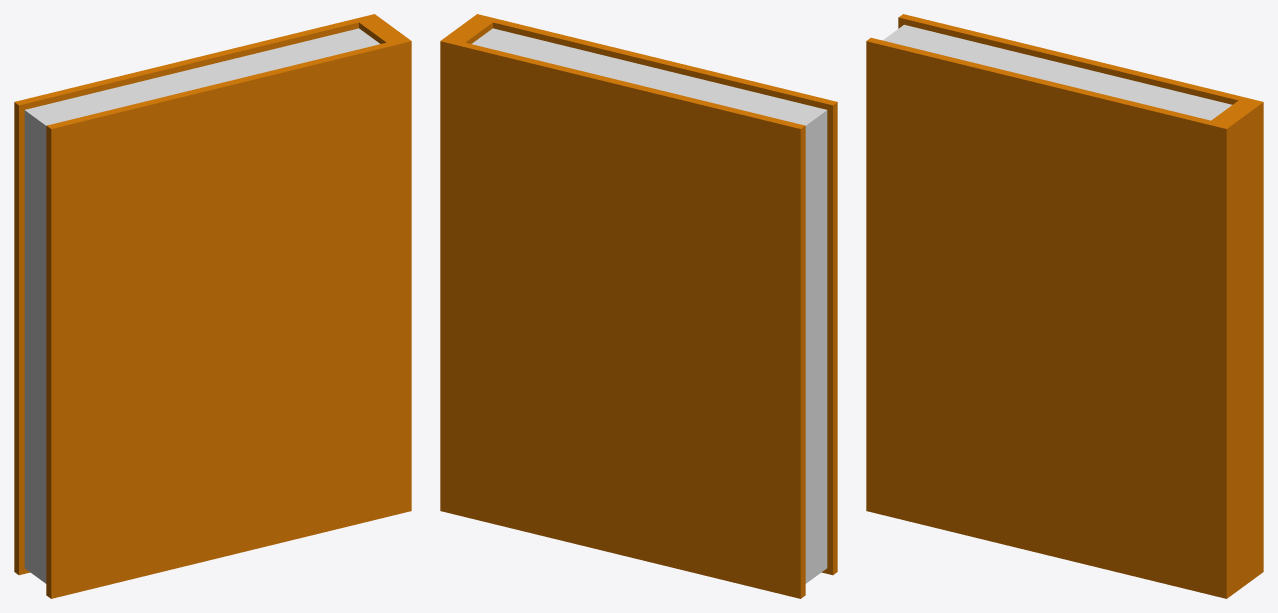
File: Livre_2.fbx
3 renders of one model, left to right at view 1: azimuth 30°, elevation 25°; view 2: azimuth 150°, elevation 25°; view 3: azimuth 330°, elevation 25°, orthographic.
Parts seen in each view (by area): view 1: Livre1; view 2: Livre1; view 3: Livre1.
Boxes of the visible parts, <box> form: Livre1: <box>14,14,411,598</box>; Livre1: <box>440,14,837,598</box>; Livre1: <box>866,14,1263,598</box>.
Size of the model in its own units: 38.25 by 47.63 by 6.81.
